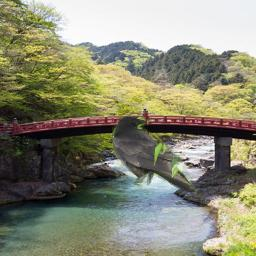Crow: (112, 116, 197, 193)
